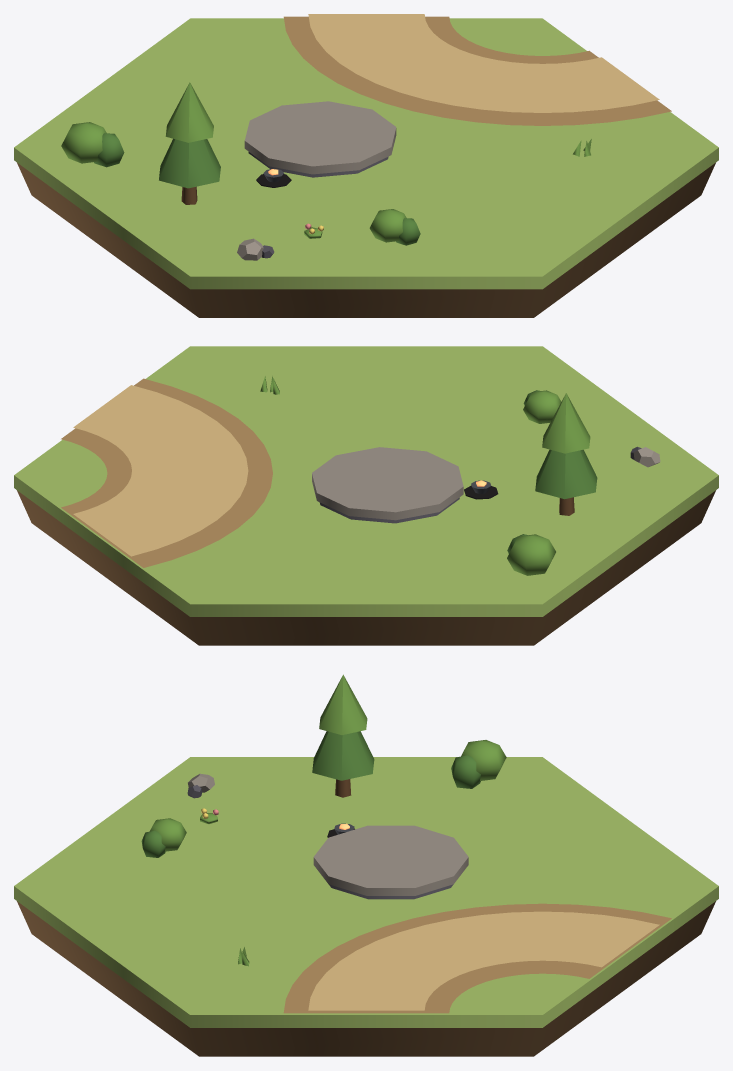
The model's file is tile_emberBend.glb.
The picture shows the model from 3 angles, top to bottom: view 1: azimuth 30°, elevation 25°; view 2: azimuth 150°, elevation 25°; view 3: azimuth 270°, elevation 25°; orthographic projection.
Visible parts, largest first — view 1: ground, road, ground_soil, tower_slot_1_plate, deco_tree_3_crown, deco_tree_3_crown_b, deco_bush_5_a, deco_bush_0_a, deco_bush_5_b; view 2: ground, road, ground_soil, tower_slot_1_plate, deco_tree_3_crown, deco_tree_3_crown_b, deco_bush_5_a, deco_bush_0_a, tower_slot_1_socket; view 3: ground, road, ground_soil, tower_slot_1_plate, deco_tree_3_crown, deco_tree_3_crown_b, deco_bush_5_a, deco_bush_5_b, deco_bush_0_a.
Boxes of the visible parts, x1,y1,x2,y2 form: ground: (14,18,718,289); road: (283,14,671,125); ground_soil: (17,163,715,317); tower_slot_1_plate: (244,101,396,174); deco_tree_3_crown: (159,138,220,188); deco_tree_3_crown_b: (165,82,213,142); deco_bush_5_a: (61,122,106,163); deco_bush_0_a: (369,209,406,242); deco_bush_5_b: (94,133,124,167); ground: (14,346,718,616); road: (61,378,272,567); ground_soil: (17,490,715,645); tower_slot_1_plate: (312,447,463,520); deco_tree_3_crown: (535,449,597,499); deco_tree_3_crown_b: (542,393,590,453); deco_bush_5_a: (507,534,555,575); deco_bush_0_a: (523,390,561,423); tower_slot_1_socket: (319,497,459,523); ground: (14,757,718,1027); road: (283,903,671,1013); ground_soil: (17,901,715,1056); tower_slot_1_plate: (313,825,468,895); deco_tree_3_crown: (312,731,374,780); deco_tree_3_crown_b: (319,674,367,734); deco_bush_5_a: (461,740,506,780); deco_bush_5_b: (451,755,480,788); deco_bush_0_a: (149,818,186,851).
Size of the model in its own units: 1.73 by 0.5252 by 2.
